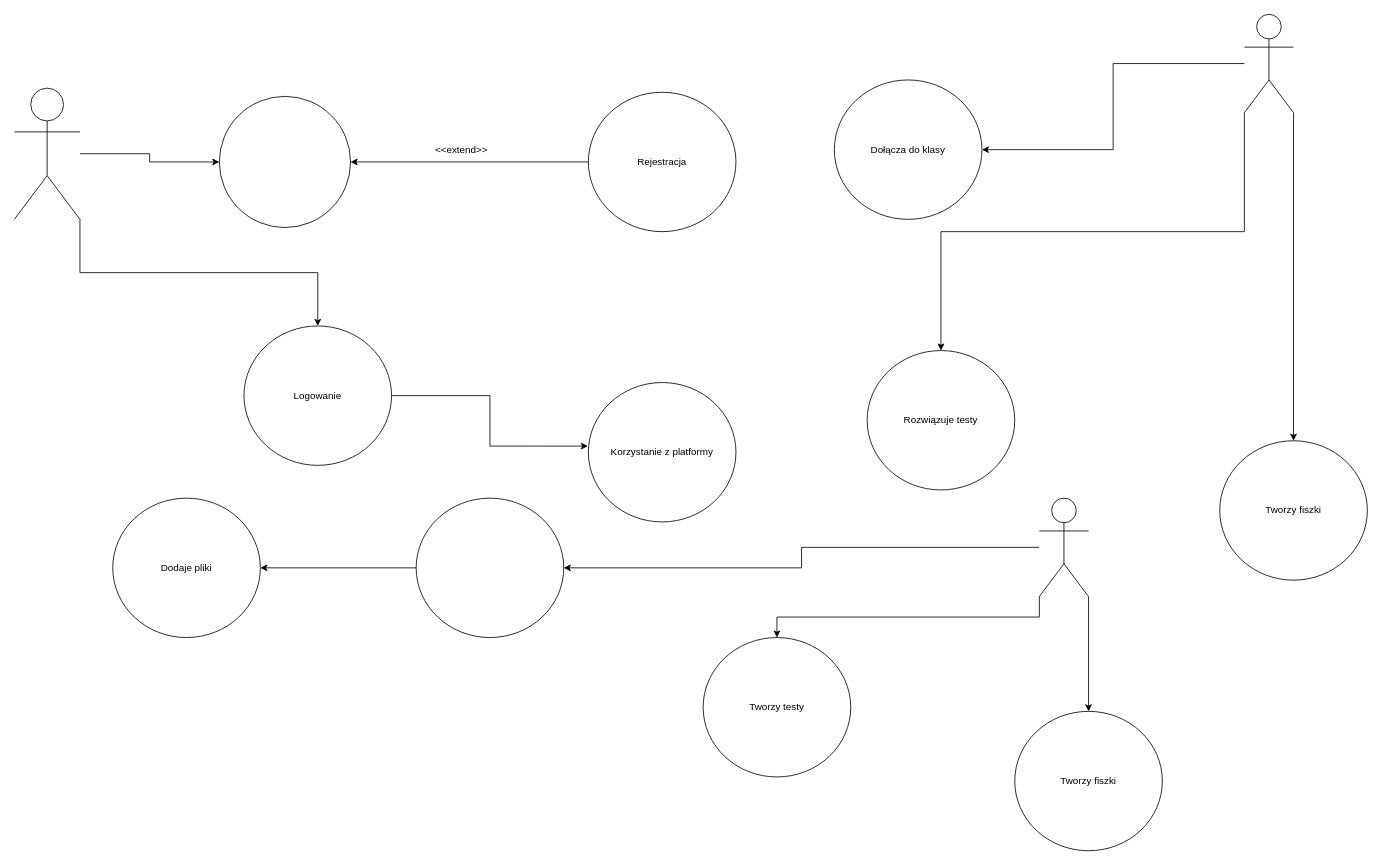
This 1382x865 diagram has some shape labels left out. Each missing label, with the centre of its shape:
Odwiedzający stronę: the point at 47,153
Profesor: the point at 1064,547
Przeglądanie platformy (Landing Page): the point at 285,162
Student: the point at 1269,63
Tworzy klasy: the point at 489,567
